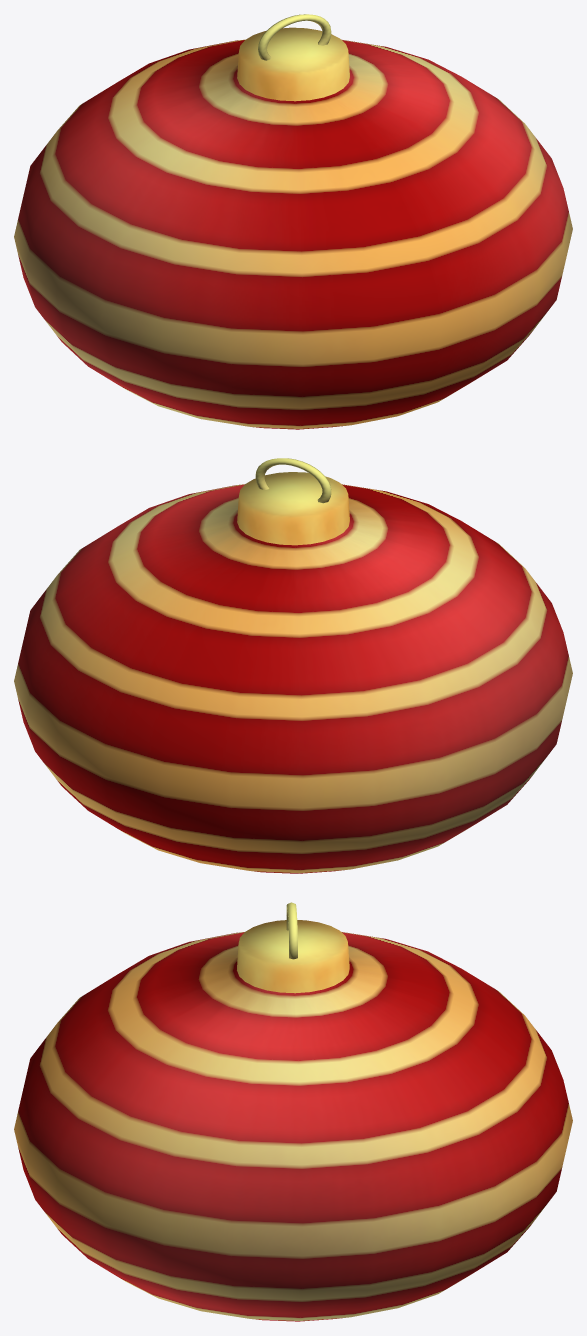
3 views of the same model, one above another, from view 1: azimuth 30°, elevation 25°; view 2: azimuth 150°, elevation 25°; view 3: azimuth 270°, elevation 25° (orthographic).
Parts seen in each view (by area): view 1: V5 Christmas Collection2.5_V5 Christmas Collection2_0.001; view 2: V5 Christmas Collection2.5_V5 Christmas Collection2_0.001; view 3: V5 Christmas Collection2.5_V5 Christmas Collection2_0.001.
Boxes of the visible parts, x1,y1,x2,y2 form: V5 Christmas Collection2.5_V5 Christmas Collection2_0.001: (14, 14, 572, 429); V5 Christmas Collection2.5_V5 Christmas Collection2_0.001: (14, 458, 572, 873); V5 Christmas Collection2.5_V5 Christmas Collection2_0.001: (14, 902, 572, 1321).
Bounding box in the file's own units: 9.64 × 7.15 × 9.64.
Materials: 1 (1 with a texture image).
